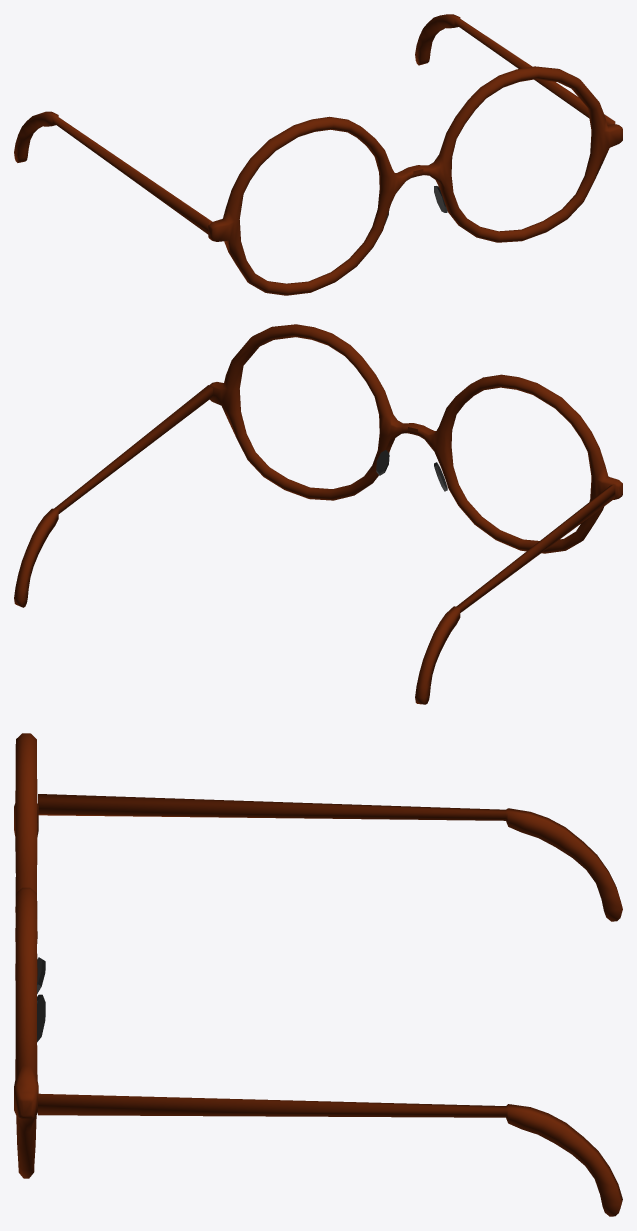
Rendered from Glasses_02.fbx.
The picture shows the model from 3 angles, top to bottom: view 1: azimuth 30°, elevation 25°; view 2: azimuth 150°, elevation 25°; view 3: azimuth 270°, elevation 25°; orthographic projection. The views are drawn at different scales.
Parts seen in each view (by area): view 1: Cylinder.001; view 2: Cylinder.001; view 3: Cylinder.001.
Part boxes in pixels (<box>): Cylinder.001: <box>14,14,622,295</box>; Cylinder.001: <box>14,324,622,704</box>; Cylinder.001: <box>14,733,622,1216</box>.
Size of the model in its own units: 603 by 240 by 512.
